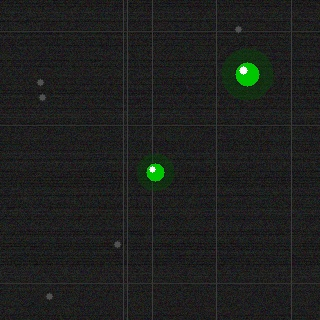green_normal: (233, 60, 261, 88), (144, 161, 166, 183)
